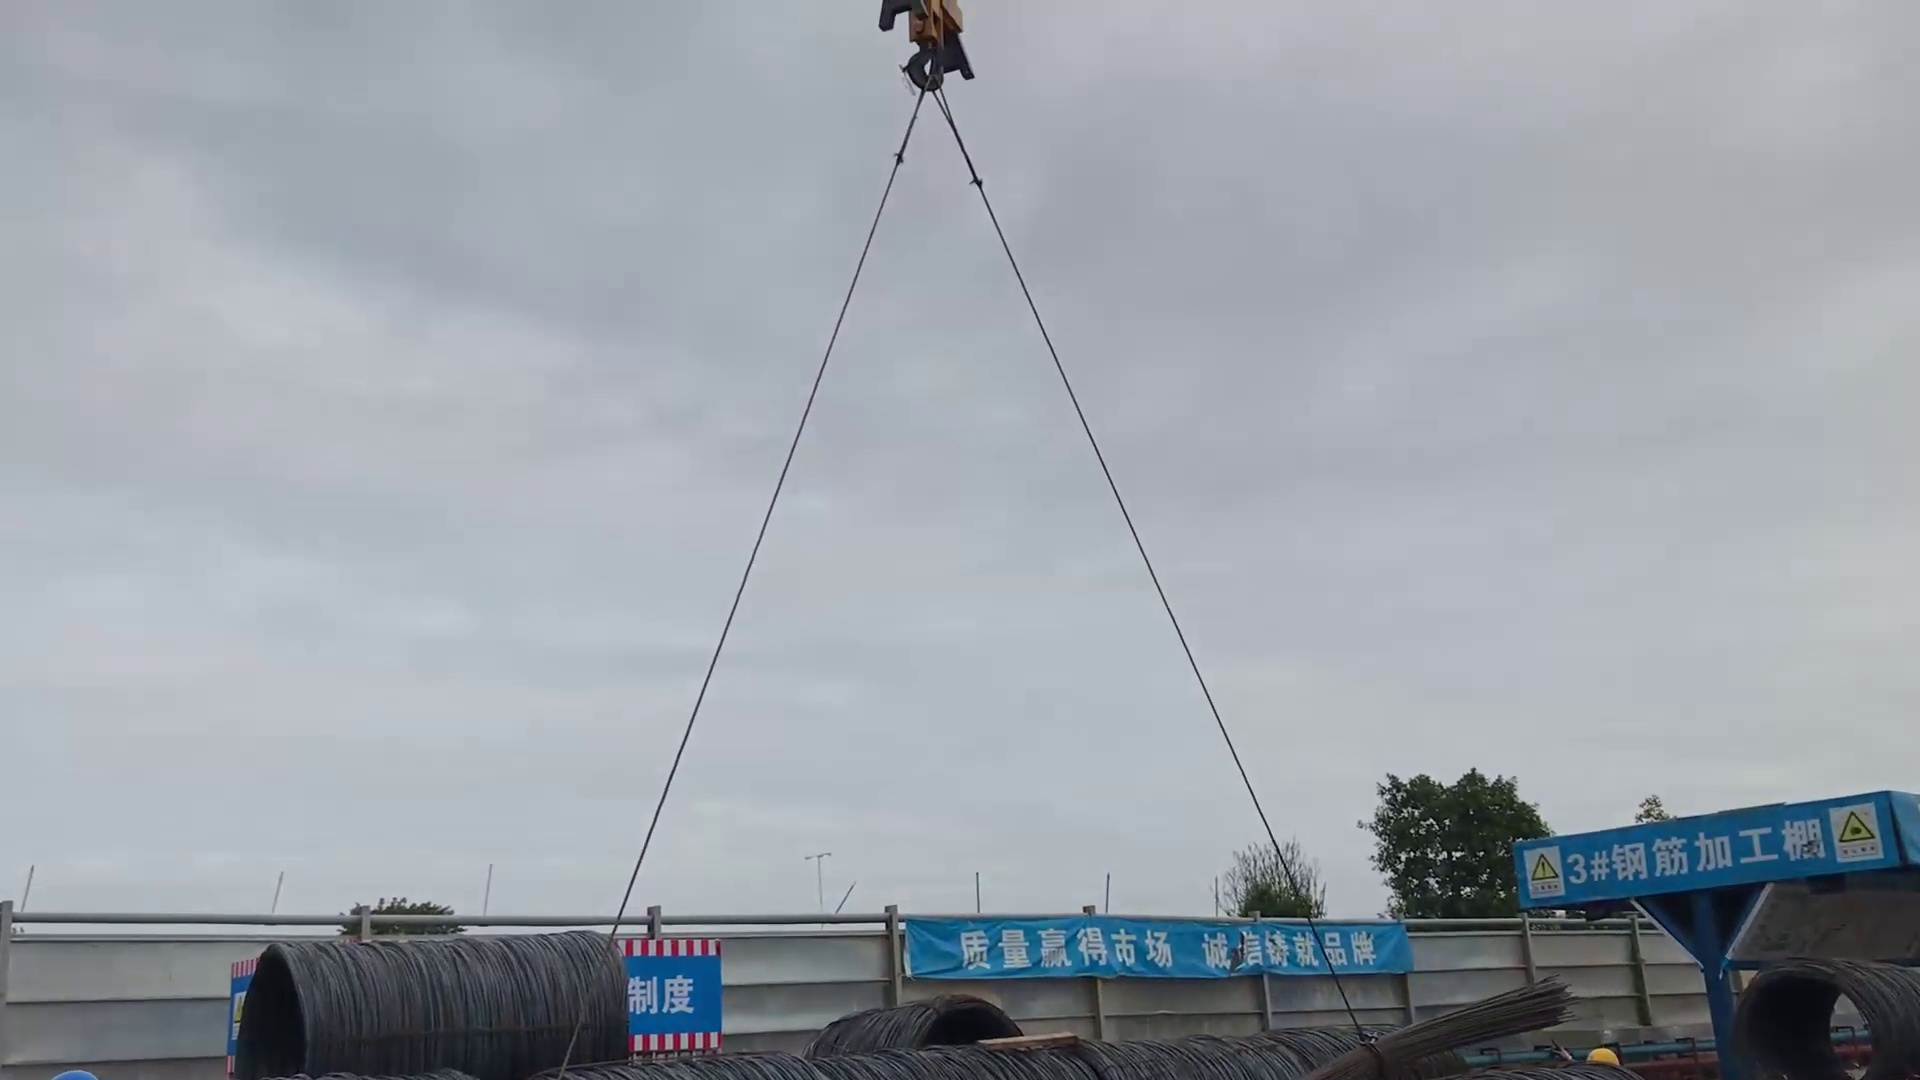helmet: (1586, 1047, 1621, 1063)
hook: (862, 1, 986, 102)
rebar: (1300, 984, 1567, 1080)
slogan: (905, 913, 1414, 977)
